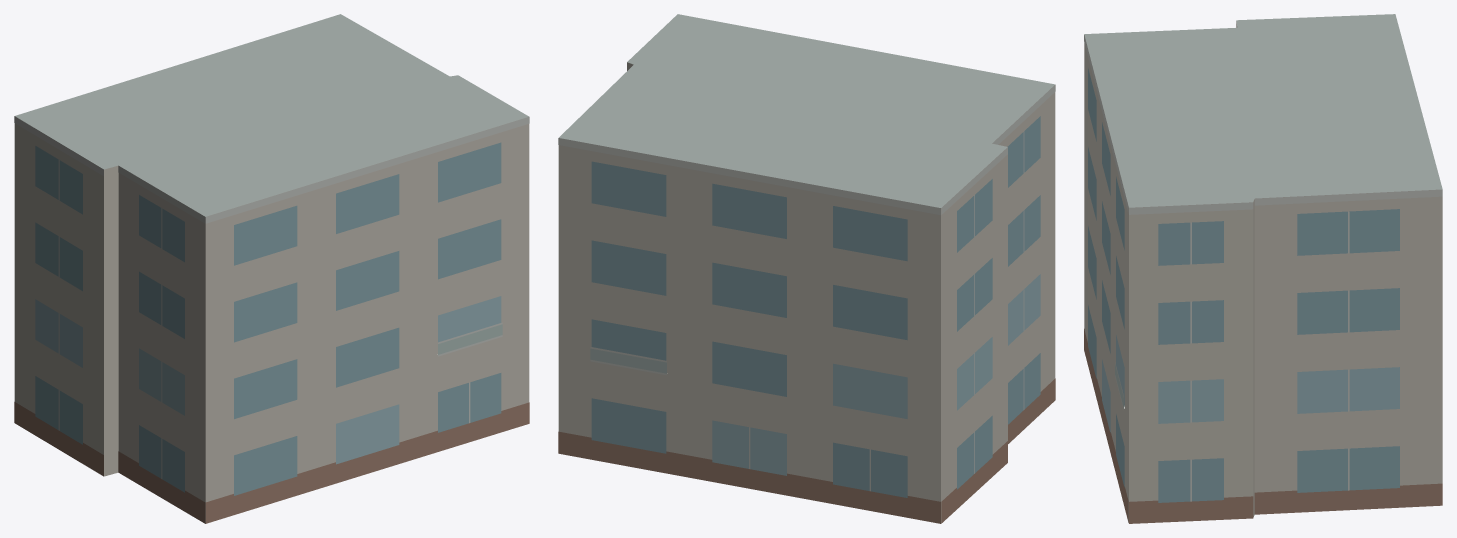
Rendered from survey-upis-33036856.glb.
3 renders of one model, left to right at view 1: azimuth 30°, elevation 25°; view 2: azimuth 150°, elevation 25°; view 3: azimuth 270°, elevation 25°, orthographic. The views are drawn at different scales.
Visible parts, largest first — view 1: survey-upis-33036856.tmp; view 2: survey-upis-33036856.tmp; view 3: survey-upis-33036856.tmp.
Part boxes in pixels (<box>): survey-upis-33036856.tmp: <box>14,14,529,523</box>; survey-upis-33036856.tmp: <box>558,14,1055,523</box>; survey-upis-33036856.tmp: <box>1084,14,1442,523</box>.
Size of the model in its own units: 14.14 by 10.75 by 11.06.
